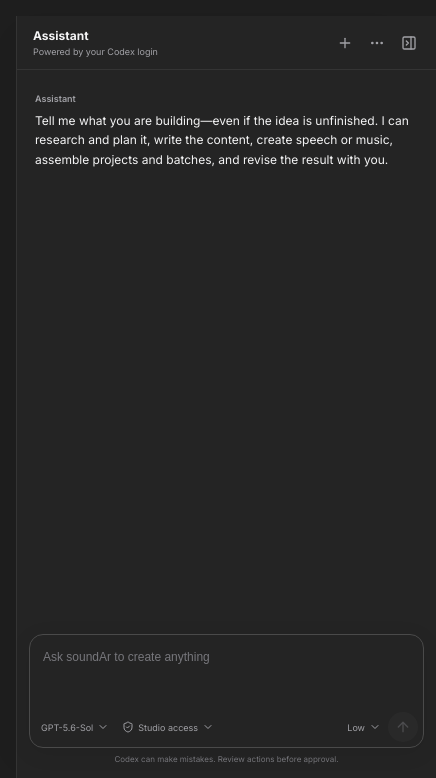
AssistantPane › does not substitute a current master when a stale saved output falls back to its project
expect the text box named "Message soundAr assistant" is shown: met, box [30,635,423,709]
Click the button named "Conversation history" at (377, 42), box [362,28,392,58]
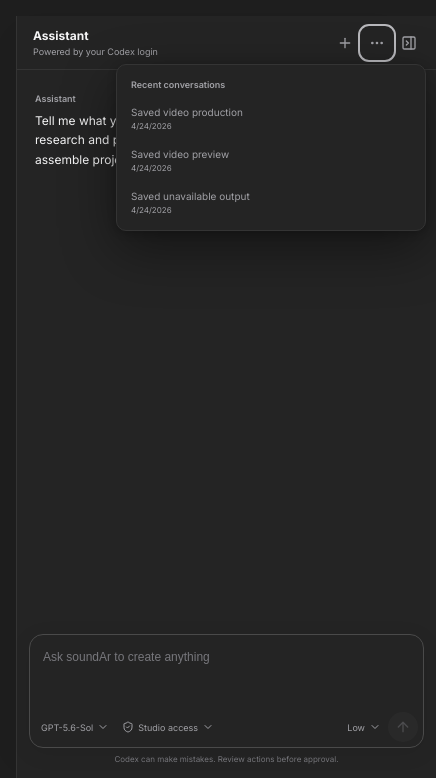
Click the menu item "Saved unavailable output 4/24/2026" at (190, 196), box [123,182,419,224]
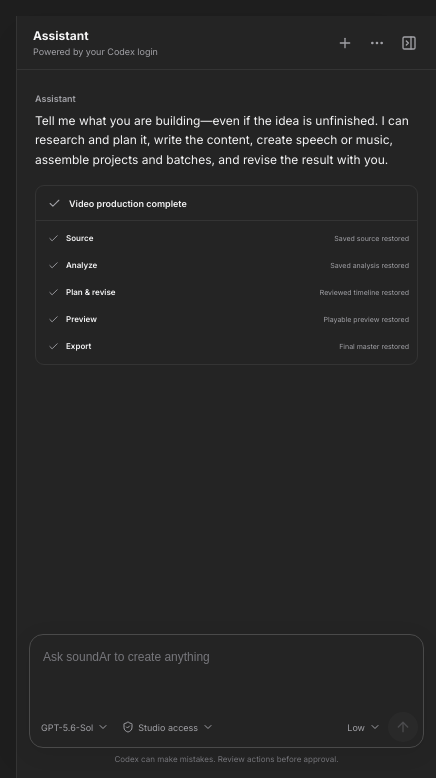
expect the element named "Video production progress" is shown: met, box [35,185,418,365]
expect the menu item "Saved video preview" is gone: met
